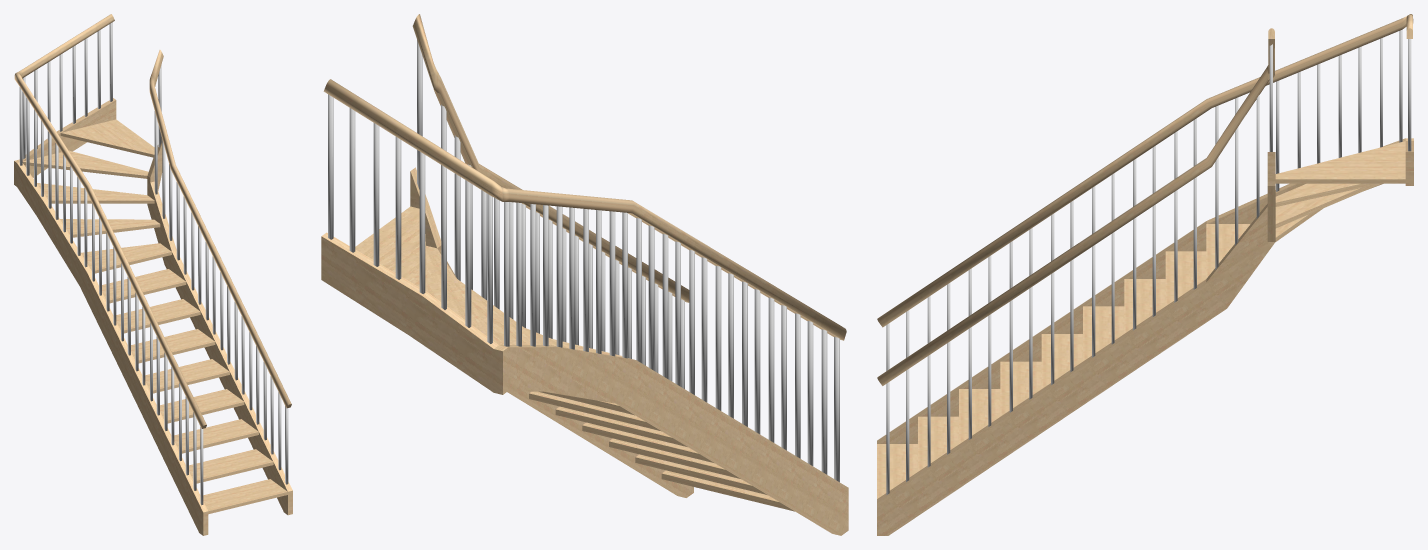
The model's file is sweethome3d-contributions-top-winder-staircase-443.glb.
The picture shows the model from 3 angles, left to right: view 1: azimuth 30°, elevation 25°; view 2: azimuth 150°, elevation 25°; view 3: azimuth 270°, elevation 25°; orthographic projection. The views are drawn at different scales.
Visible parts, largest first — view 1: 14_14, 10_10, 27_27.000_27_27.003, 27_27.001_27_27.004, 11_11, 2_2.001, 2_2.002, 27_27.002, 2_2.000_2_2.003; view 2: 10_10, 27_27.000_27_27.003, 14_14, 27_27.001_27_27.004, 27_27.002, 2_2.001, 2_2.002, 11_11, 2_2.000_2_2.003; view 3: 14_14, 11_11, 27_27.001_27_27.004, 10_10, 2_2.001, 27_27.000_27_27.003, 2_2.002.
Part boxes in pixels (x1,y1,x2,y2): 14_14: (22, 119, 287, 514); 10_10: (14, 98, 208, 535); 27_27.000_27_27.003: (19, 87, 203, 505); 27_27.001_27_27.004: (154, 64, 288, 484); 11_11: (147, 137, 292, 515); 2_2.001: (14, 72, 206, 428); 2_2.002: (149, 50, 291, 408); 27_27.002: (22, 22, 112, 159); 2_2.000_2_2.003: (16, 14, 114, 78); 10_10: (321, 232, 848, 535); 27_27.000_27_27.003: (504, 202, 839, 482); 14_14: (355, 206, 794, 511); 27_27.001_27_27.004: (417, 40, 684, 388); 27_27.002: (328, 94, 492, 343); 2_2.001: (501, 186, 846, 340); 2_2.002: (412, 14, 689, 302); 11_11: (410, 167, 693, 497); 2_2.000_2_2.003: (323, 79, 502, 201); 14_14: (877, 141, 1405, 498); 11_11: (877, 152, 1275, 535); 27_27.001_27_27.004: (886, 44, 1272, 495); 10_10: (877, 138, 1413, 443); 2_2.001: (877, 15, 1407, 327); 27_27.000_27_27.003: (886, 29, 1402, 370); 2_2.002: (877, 28, 1274, 385).
Size of the model in its own units: 100 by 347 by 330.
Materials: 8 (5 with a texture image).
